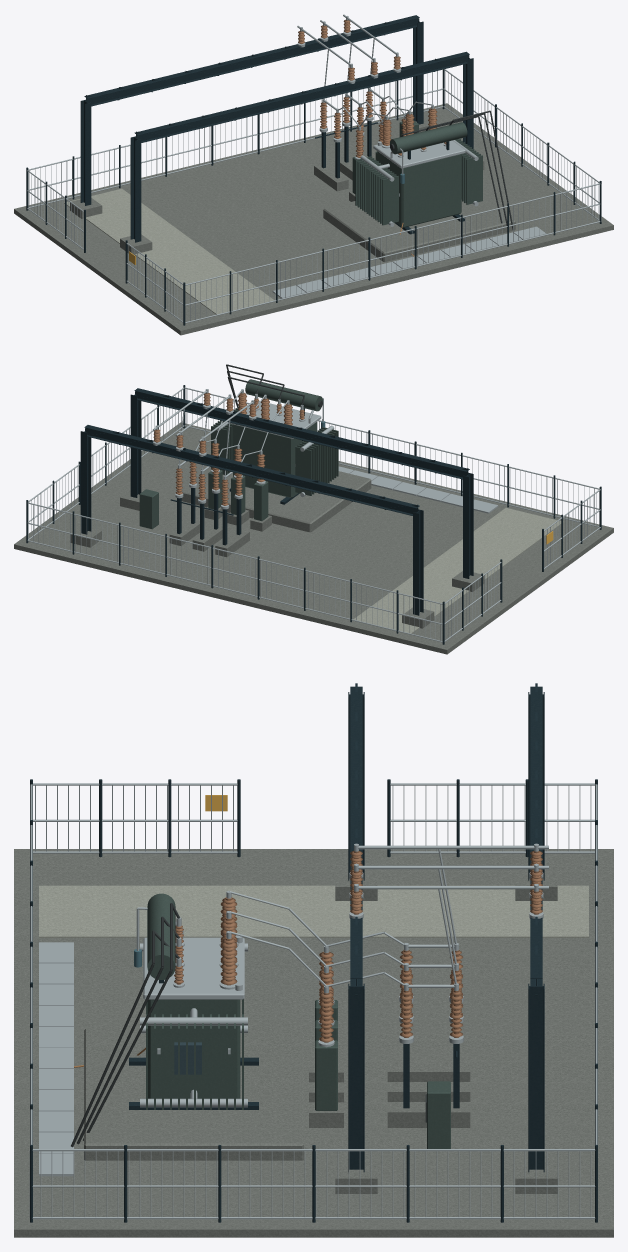
Rendered from mine-substation.glb.
3 renders of one model, top to bottom at view 1: azimuth 30°, elevation 25°; view 2: azimuth 150°, elevation 25°; view 3: azimuth 270°, elevation 25°, orthographic. The views are drawn at different scales.
Visible parts, largest first — view 1: substation-foundations__Power_concrete, substation-inner-fence__Power_trim, substation-foundations__Power_steel, power-transformer-01__Power_machine, substation-foundations__Power_wall, substation-inner-fence__Power_steel, substation-foundations__Power_trim, substation-switch-bay-01__Power_ceramic, power-transformer-01__Power_trim, substation-switch-bay-01__Power_trim, power-transformer-01__Power_dark, substation-switch-bay-01__Power_concrete (+2 smaller); view 2: substation-foundations__Power_concrete, substation-foundations__Power_steel, substation-inner-fence__Power_trim, substation-foundations__Power_wall, power-transformer-01__Power_machine, substation-inner-fence__Power_steel, substation-switch-bay-01__Power_concrete, substation-switch-bay-01__Power_machine, substation-switch-bay-01__Power_ceramic, substation-switch-bay-01__Power_trim, substation-foundations__Power_trim, substation-switch-bay-01__Power_steel (+3 smaller); view 3: substation-foundations__Power_concrete, substation-foundations__Power_wall, substation-inner-fence__Power_trim, substation-foundations__Power_steel, power-transformer-01__Power_machine, substation-foundations__Power_trim, substation-switch-bay-01__Power_trim, power-transformer-01__Power_trim, substation-inner-fence__Power_steel, substation-switch-bay-01__Power_concrete, substation-switch-bay-01__Power_ceramic, substation-switch-bay-01__Power_machine (+3 smaller).
Boxes of the visible parts, <box> form: substation-foundations__Power_concrete: <box>14,103,613,335</box>; substation-inner-fence__Power_trim: <box>27,69,601,323</box>; substation-foundations__Power_steel: <box>80,15,473,242</box>; power-transformer-01__Power_machine: <box>355,122,482,227</box>; substation-foundations__Power_wall: <box>64,188,274,314</box>; substation-inner-fence__Power_steel: <box>26,69,601,325</box>; substation-foundations__Power_trim: <box>272,226,546,298</box>; substation-switch-bay-01__Power_ceramic: <box>298,19,406,157</box>; power-transformer-01__Power_trim: <box>360,104,478,226</box>; substation-switch-bay-01__Power_trim: <box>297,14,432,159</box>; power-transformer-01__Power_dark: <box>390,110,512,229</box>; substation-switch-bay-01__Power_concrete: <box>314,152,375,201</box>; substation-foundations__Power_concrete: <box>14,422,613,654</box>; substation-foundations__Power_steel: <box>80,388,473,615</box>; substation-inner-fence__Power_trim: <box>27,387,600,642</box>; substation-foundations__Power_wall: <box>353,507,563,633</box>; power-transformer-01__Power_machine: <box>211,379,338,498</box>; substation-inner-fence__Power_steel: <box>26,385,601,644</box>; substation-switch-bay-01__Power_concrete: <box>169,507,271,557</box>; substation-switch-bay-01__Power_machine: <box>139,470,268,529</box>; substation-switch-bay-01__Power_ceramic: <box>153,393,265,505</box>; substation-switch-bay-01__Power_trim: <box>153,389,288,509</box>; substation-foundations__Power_trim: <box>338,466,498,513</box>; substation-switch-bay-01__Power_steel: <box>170,488,241,545</box>; substation-foundations__Power_concrete: <box>14,849,613,1237</box>; substation-foundations__Power_wall: <box>39,885,588,937</box>; substation-inner-fence__Power_trim: <box>29,783,597,1219</box>; substation-foundations__Power_steel: <box>129,683,544,1172</box>; power-transformer-01__Power_machine: <box>146,893,243,1109</box>; substation-foundations__Power_trim: <box>39,942,73,1176</box>; substation-switch-bay-01__Power_trim: <box>229,843,548,1047</box>; power-transformer-01__Power_trim: <box>136,891,247,1107</box>; substation-inner-fence__Power_steel: <box>30,779,597,1222</box>; substation-switch-bay-01__Power_concrete: <box>309,1062,470,1127</box>; substation-switch-bay-01__Power_ceramic: <box>319,851,542,1042</box>; substation-switch-bay-01__Power_machine: <box>315,1000,450,1148</box>.
Size of the model in its own units: 18 by 5.43 by 12.
Materials: 11 (5 with a texture image).
